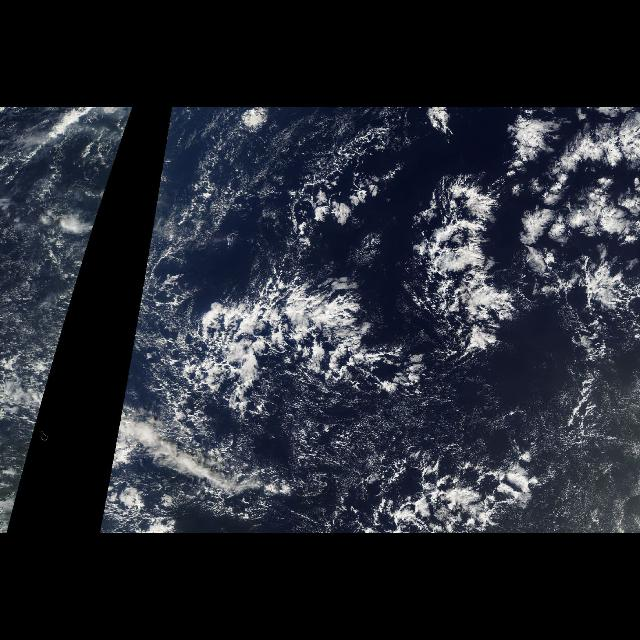Fish: (160, 114, 634, 534)
Sugar: (284, 366, 638, 530), (118, 110, 296, 410), (2, 110, 132, 410)
